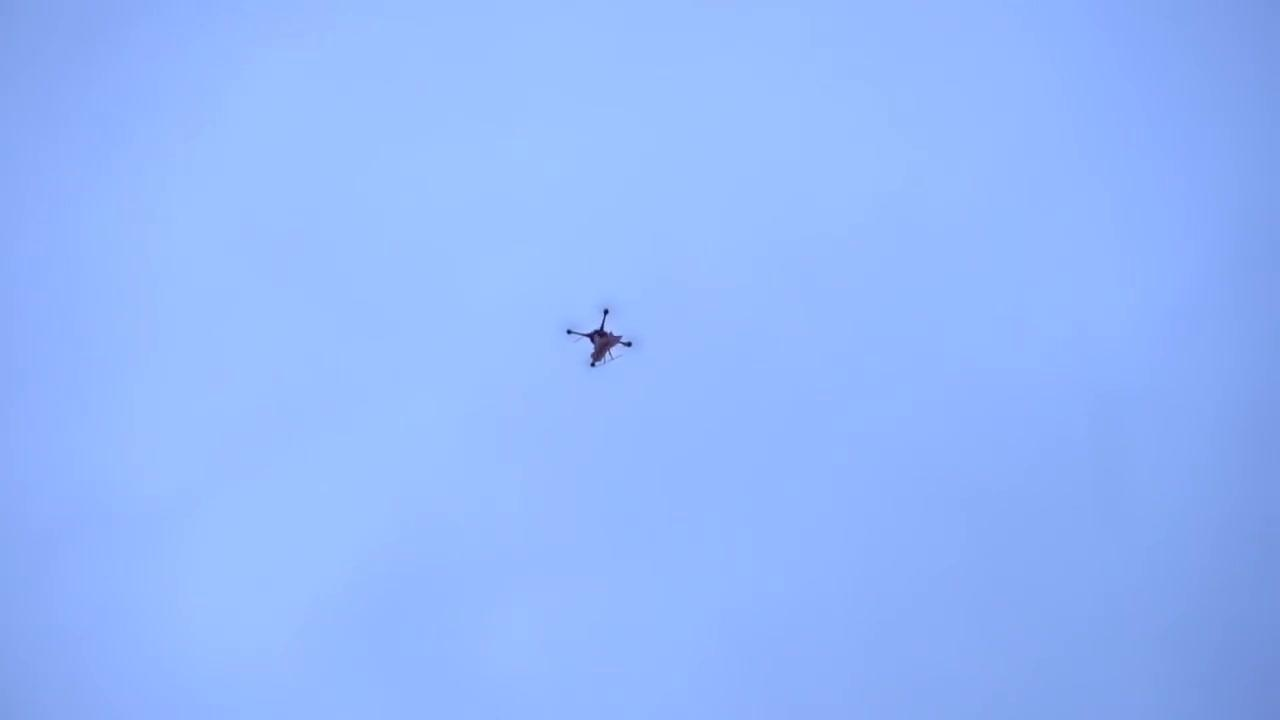UAV: (567, 310, 633, 368)
